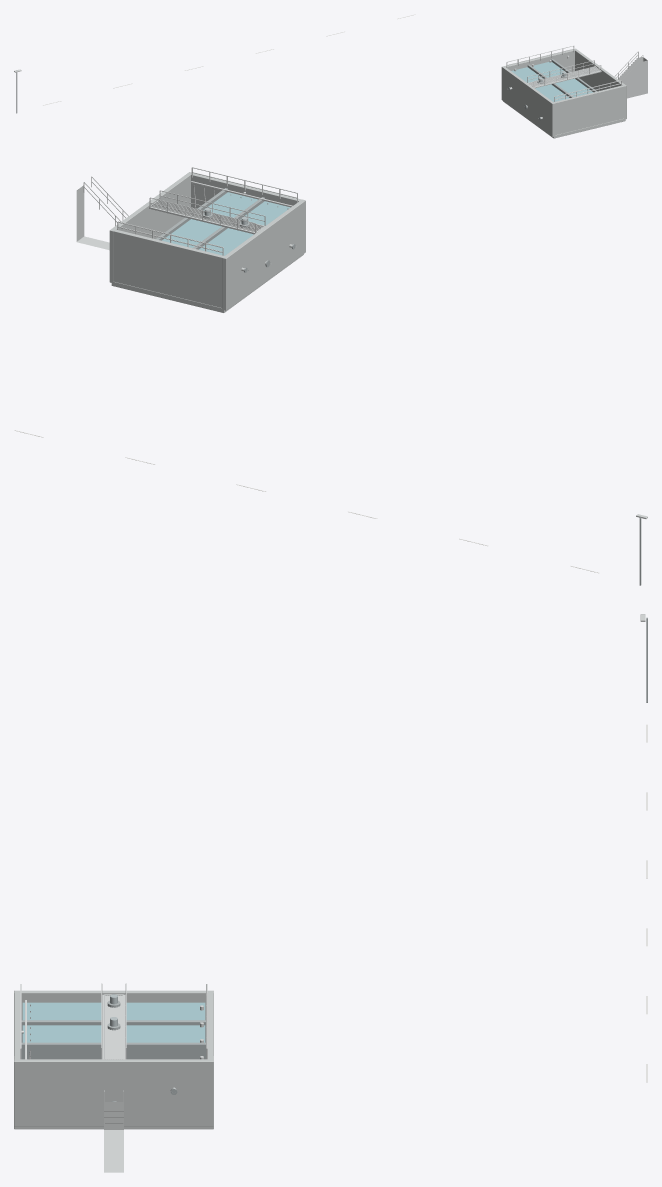
The picture shows the model from 3 angles, top to bottom: view 1: azimuth 30°, elevation 25°; view 2: azimuth 150°, elevation 25°; view 3: azimuth 270°, elevation 25°; orthographic projection. The views are drawn at different scales.
Parts seen in each view (by area): view 1: render-batch-3, render-batch-4, render-batch-0, render-batch-5, render-batch-1; view 2: render-batch-3, render-batch-0, render-batch-4, render-batch-5, render-batch-1; view 3: render-batch-3, render-batch-0, render-batch-1, render-batch-4, render-batch-5.
Boxes of the visible parts, box(x1,y1,x2,y2) form: render-batch-3: box(501, 48, 626, 138); render-batch-4: box(14, 45, 647, 101); render-batch-0: box(511, 61, 593, 101); render-batch-5: box(510, 66, 601, 119); render-batch-1: box(16, 59, 596, 120); render-batch-3: box(109, 172, 305, 312); render-batch-0: box(162, 192, 290, 255); render-batch-4: box(76, 167, 647, 518); render-batch-5: box(149, 192, 292, 271); render-batch-1: box(156, 188, 641, 585); render-batch-3: box(14, 990, 213, 1129); render-batch-0: box(22, 1002, 205, 1042); render-batch-1: box(21, 617, 647, 1101); render-batch-4: box(20, 614, 645, 1172); render-batch-5: box(21, 994, 175, 1088).
Size of the model in its own units: 84.36 by 7.08 by 47.57.
